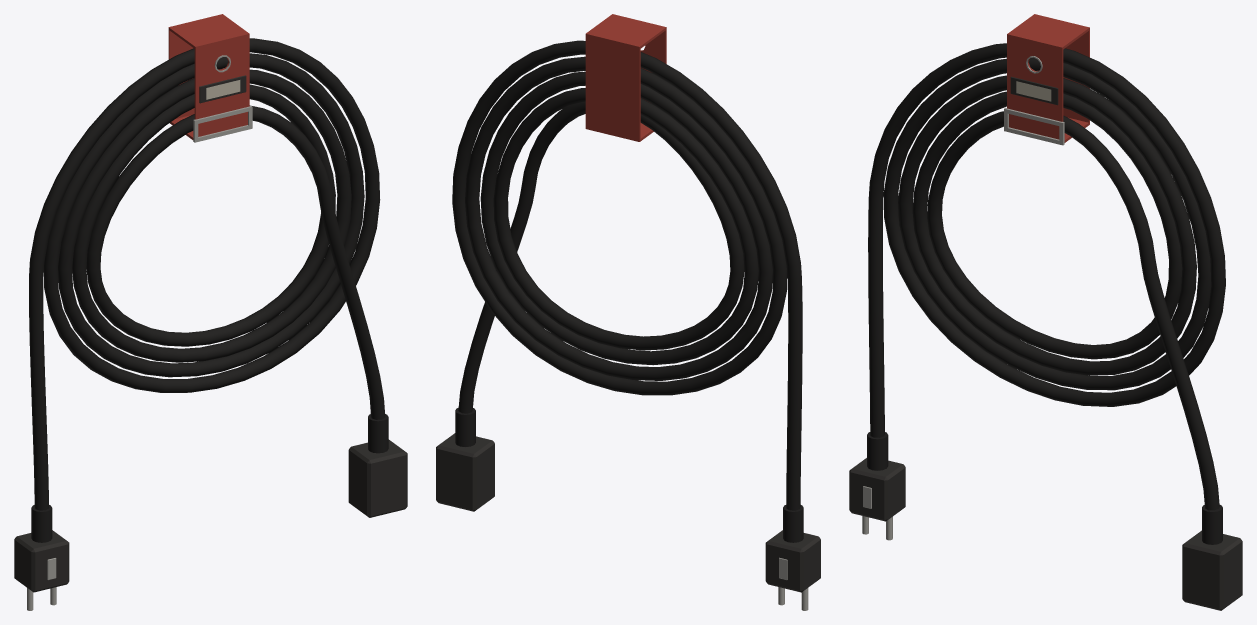
The model's file is cable-coil-large-power-761af9a3c8a5.glb.
The picture shows the model from 3 angles, left to right: view 1: azimuth 30°, elevation 25°; view 2: azimuth 150°, elevation 25°; view 3: azimuth 330°, elevation 25°; orthographic projection. The views are drawn at different scales.
Parts seen in each view (by area): view 1: rubber, plastic-dark, accent-warm, brushed; view 2: rubber, accent-warm, plastic-dark; view 3: rubber, plastic-dark, accent-warm, brushed.
Part boxes in pixels (x1,y1,x2,y2): rubber: (29,38,388,542); plastic-dark: (14,75,407,592); accent-warm: (168,14,249,139); brushed: (27,55,252,610); rubber: (452,40,803,542); accent-warm: (585,14,666,141); plastic-dark: (436,433,820,592); rubber: (867,43,1225,544); plastic-dark: (849,76,1242,610); accent-warm: (1007,14,1089,142); brushed: (862,56,1064,540).
Size of the model in its own units: 0.302 by 0.416 by 0.04.
